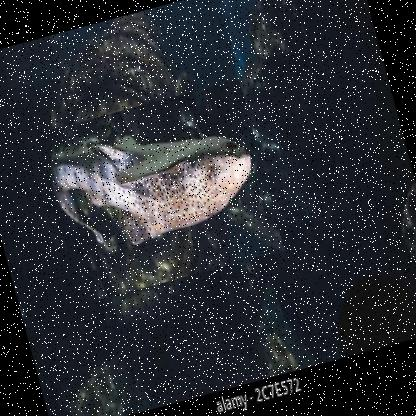zebra_shark: (36, 78, 286, 305)
